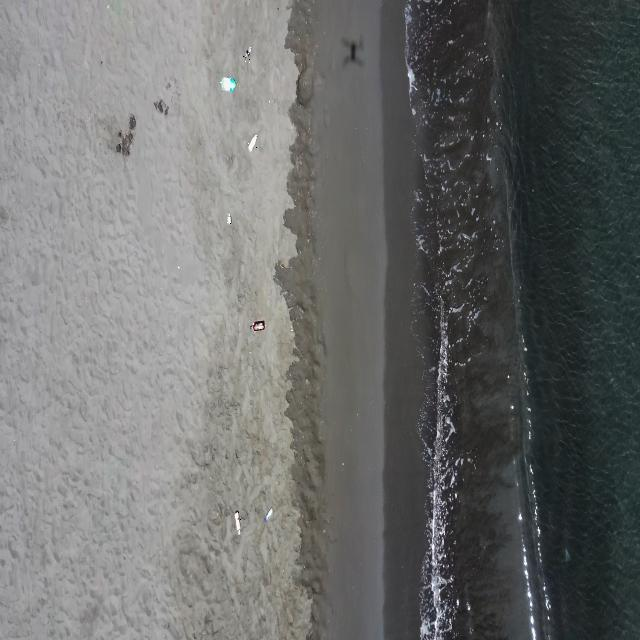Garbage: (115, 114, 135, 155), (343, 39, 362, 64), (116, 131, 131, 155), (221, 75, 236, 91), (152, 100, 166, 114), (233, 510, 240, 533), (247, 134, 256, 151), (263, 507, 272, 522), (253, 320, 264, 331), (243, 45, 251, 60), (128, 114, 136, 128), (227, 213, 231, 223)
